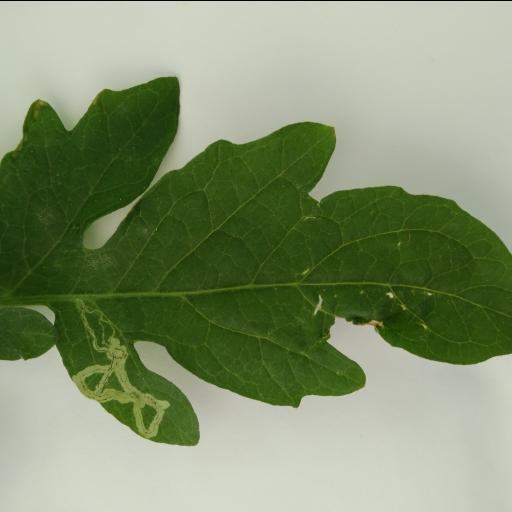Leaf Miner: (0, 76, 510, 452)
